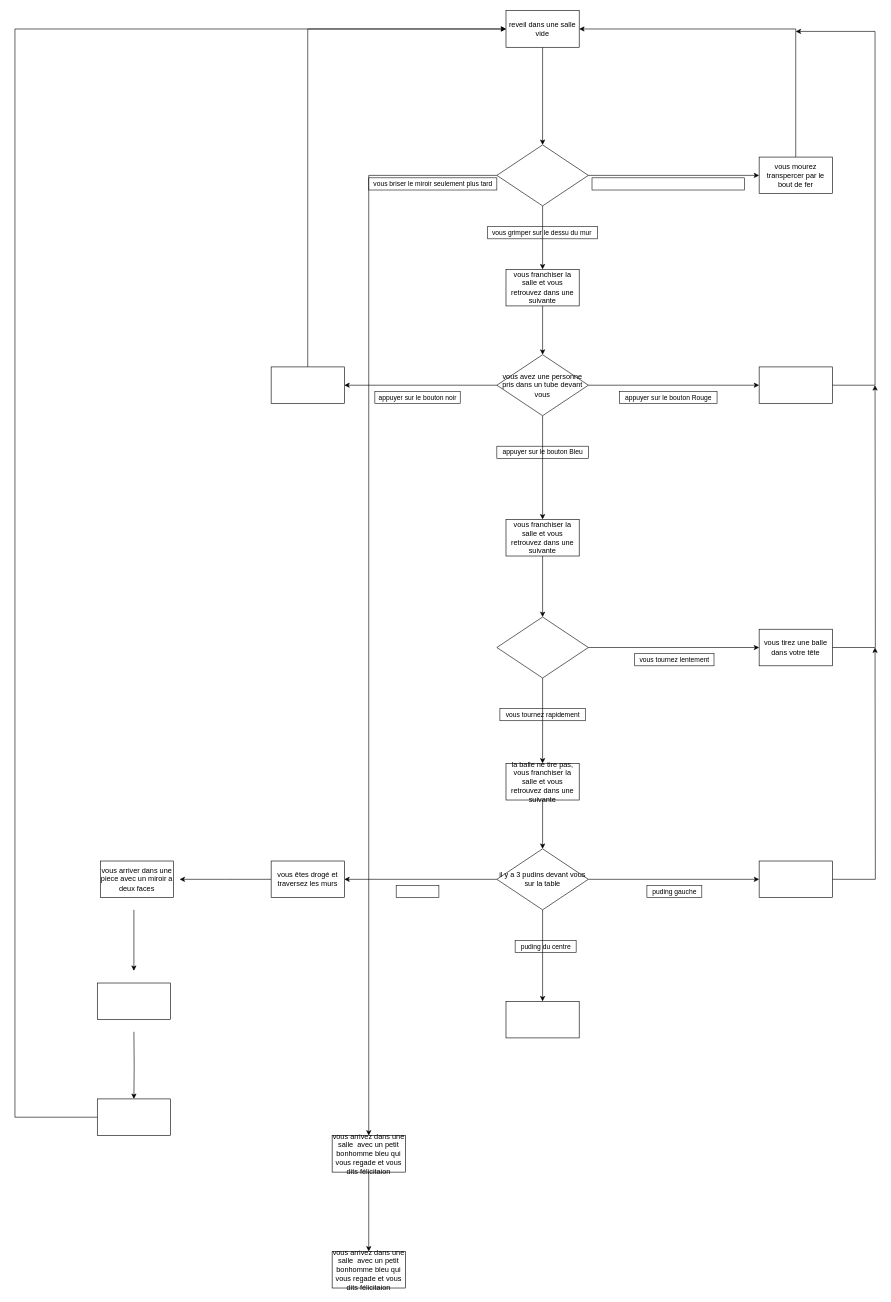
The diagram is 891 pixels wide and 1302 high, and some of its shapes have lost their labels. Here are the shapes that lost their labels. From the top down, the centre of each, then its label:
At (x=542, y=175): "les murs ce refermes sur vous".
At (x=668, y=183): "mettre un morceau de fer pour bloquer les murs".
At (x=307, y=385): "la piece et le tube se rempli de poison".
At (x=795, y=385): "la piece ce rempli de poison".
At (x=542, y=647): "il y a une arme charger avec une balle sur la table".
At (x=417, y=891): "puding droit".
At (x=795, y=879): "vous mourez empoisoné".
At (x=133, y=1001): "vouz voyez a travers le mirmoir la piece avec les murs qui bouge".
At (x=542, y=1019): "vous entrez dans une pièce sombre et recevez une balle dans la tête".
At (x=133, y=1117): "vous mourez d'over dose".
